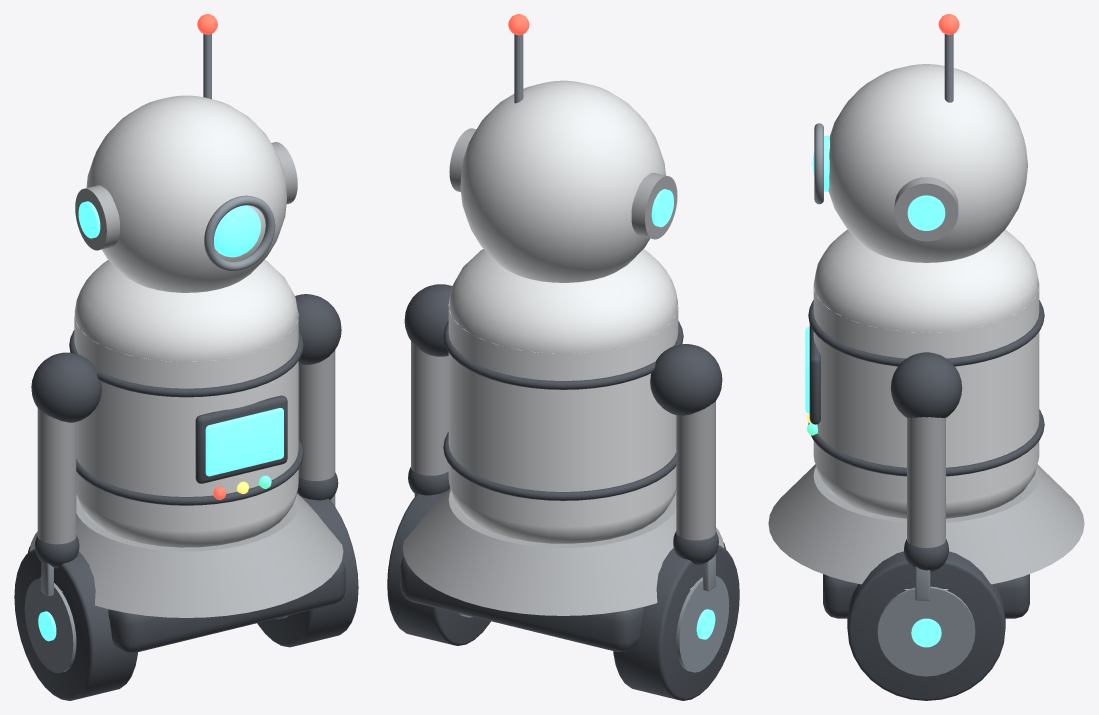
The model's file is mica.glb.
3 views of the same model, side by side, from view 1: azimuth 30°, elevation 25°; view 2: azimuth 150°, elevation 25°; view 3: azimuth 270°, elevation 25° (orthographic). The views are drawn at different scales.
Visible parts, largest first — view 1: body, head, Cone, Sphere, Cylinder, Cube, armL, Cylinder.003, armR, Cube.002, Sphere.007, Sphere.001 (+13 smaller); view 2: body, head, Cone, Sphere, Cylinder, Cube, armL, Cylinder.003, armR, Sphere.007, Sphere.001, Cylinder.001 (+9 smaller); view 3: head, body, Cone, Sphere, Cylinder.003, Cylinder.004, armR, Sphere.009, Sphere.001, Cylinder.009, Cube, Torus.001 (+8 smaller).
Boxes of the visible parts, x1=… form: body: x1=74, y1=310, x2=298, y2=531; head: x1=86, y1=95, x2=286, y2=292; Cone: x1=29, y1=493, x2=343, y2=617; Sphere: x1=74, y1=259, x2=298, y2=362; Cylinder: x1=14, y1=549, x2=137, y2=700; Cube: x1=28, y1=545, x2=345, y2=653; armL: x1=37, y1=408, x2=76, y2=544; Cylinder.003: x1=257, y1=496, x2=358, y2=647; armR: x1=298, y1=350, x2=335, y2=480; Cube.002: x1=205, y1=408, x2=283, y2=476; Sphere.007: x1=31, y1=352, x2=101, y2=422; Sphere.001: x1=76, y1=486, x2=298, y2=547; body: x1=448, y1=300, x2=678, y2=527; head: x1=460, y1=80, x2=665, y2=282; Cone: x1=403, y1=488, x2=723, y2=615; Sphere: x1=449, y1=249, x2=677, y2=354; Cylinder: x1=613, y1=545, x2=739, y2=700; Cube: x1=400, y1=542, x2=726, y2=651; armL: x1=676, y1=401, x2=715, y2=540; Cylinder.003: x1=387, y1=491, x2=490, y2=645; armR: x1=411, y1=341, x2=448, y2=475; Sphere.007: x1=650, y1=344, x2=722, y2=415; Sphere.001: x1=449, y1=481, x2=676, y2=543; Cylinder.001: x1=676, y1=576, x2=729, y2=672; head: x1=828, y1=64, x2=1027, y2=262; body: x1=813, y1=279, x2=1039, y2=501; Cone: x1=768, y1=464, x2=1084, y2=589; Sphere: x1=813, y1=229, x2=1039, y2=332; Cylinder.003: x1=847, y1=551, x2=1005, y2=700; Cylinder.004: x1=877, y1=586, x2=975, y2=676; armR: x1=907, y1=417, x2=945, y2=547; Sphere.009: x1=890, y1=352, x2=962, y2=417; Sphere.001: x1=815, y1=463, x2=1037, y2=518; Cylinder.009: x1=894, y1=177, x2=958, y2=241; Cube: x1=823, y1=574, x2=1029, y2=618; Torus.001: x1=808, y1=300, x2=1044, y2=366.
Size of the model in its own units: 0.93 by 1.87 by 0.84.
